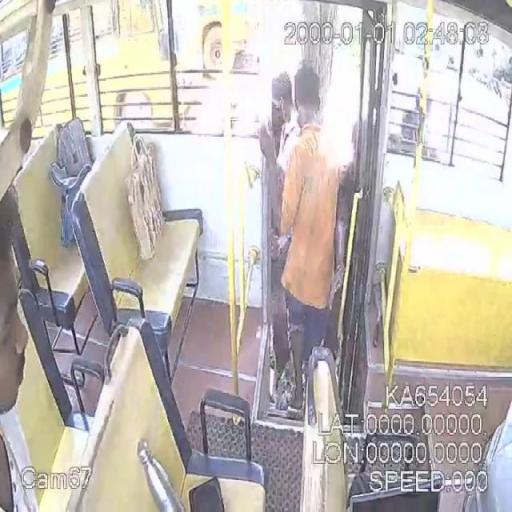persona: (275, 62, 350, 408)
